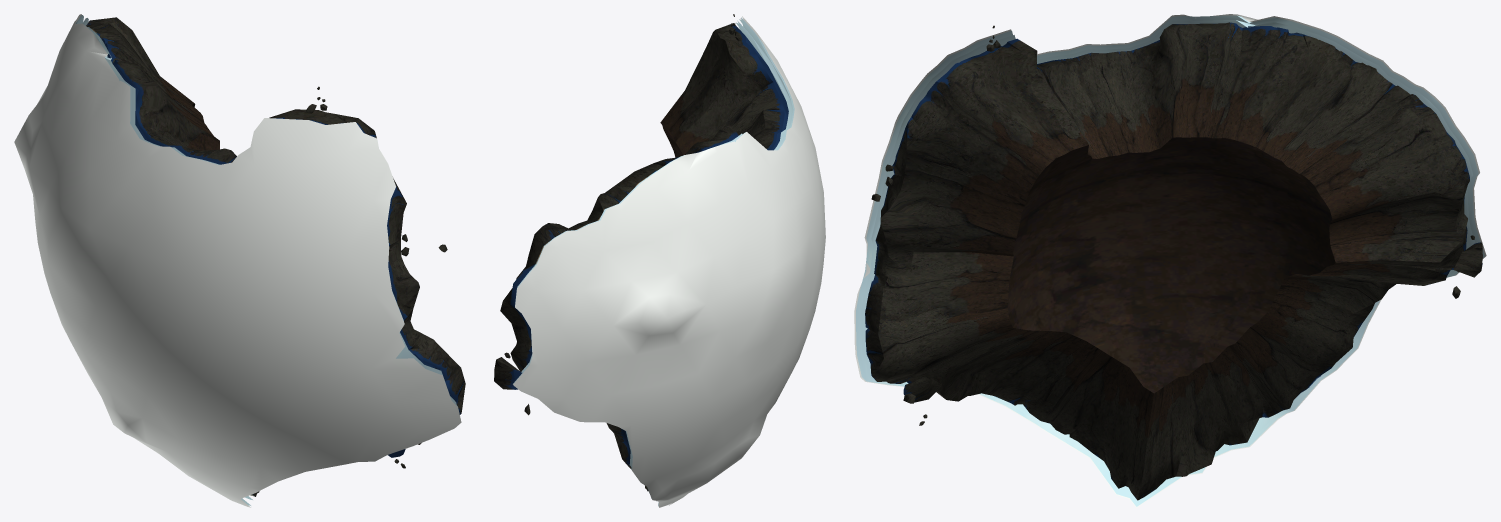
File: Piece 5.fbx
3 views of the same model, side by side, from view 1: azimuth 30°, elevation 25°; view 2: azimuth 150°, elevation 25°; view 3: azimuth 270°, elevation 25° (orthographic). The views are drawn at different scales.
Visible parts, largest first — view 1: Piece_5; view 2: Piece_5; view 3: Piece_5.
Boxes of the visible parts, x1,y1,x2,y2 form: Piece_5: (14,14,465,507); Piece_5: (494,14,825,507); Piece_5: (854,14,1486,507).
Size of the model in its own units: 4220 by 7728 by 9185.
